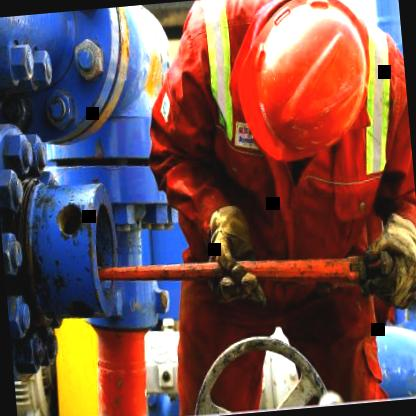helmet: (218, 0, 386, 173)
